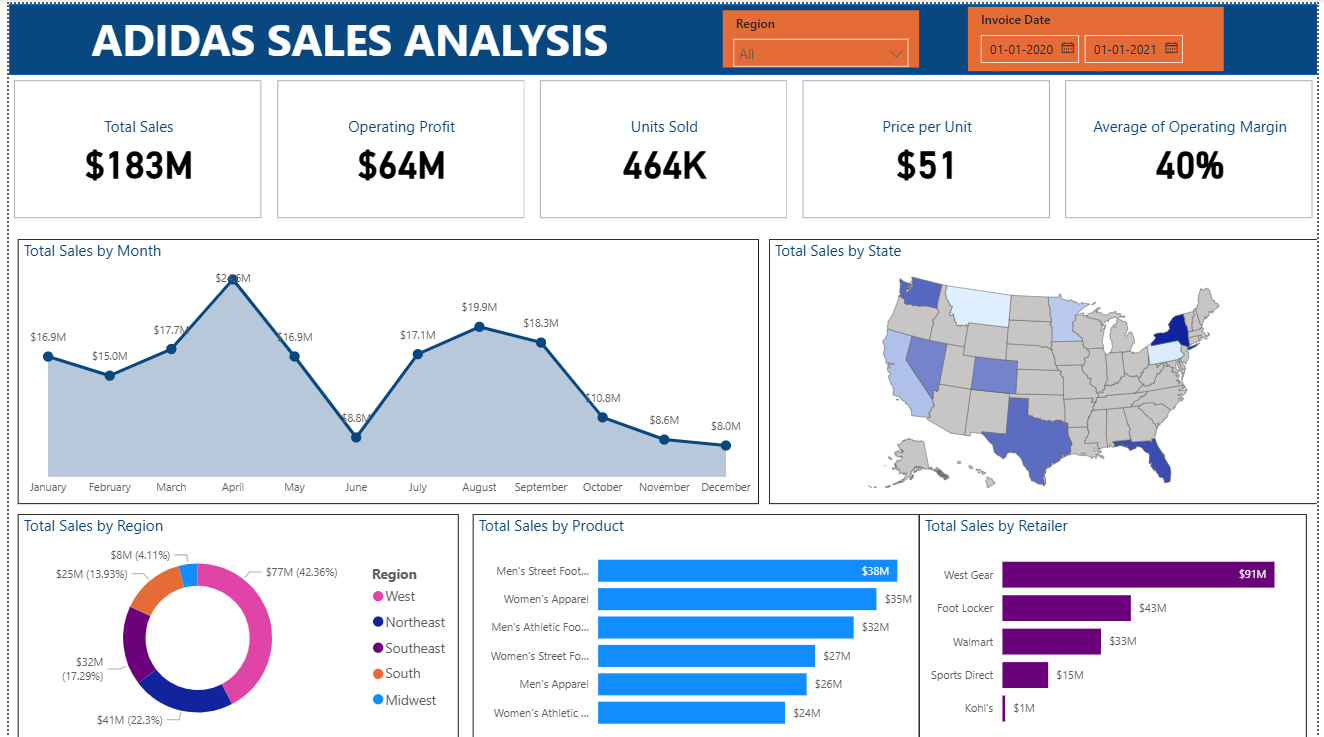

This screenshot's page, from the dashboard's own definition file:
{"tool":"powerbi","page":{"name":"Page 1","canvas":[1280,720],"ordinal":0},"visuals":[{"type":"shape","box":[0,0,1279.9,69.7],"z":0},{"type":"textbox","box":[75.8,0,647.9,72.1],"z":1000},{"type":"cardVisual","fields":{"Data":["Sum(Data Sales Adidas.Total Sales)","Sum(Data Sales Adidas.Operating Profit)","Sum(Data Sales Adidas.Units Sold)","Avg(Data Sales Adidas.Price per Unit)","Avg(Data Sales Adidas.Operating Margin)"]},"box":[0,70,1280,145],"z":2000},{"type":"areaChart","title":" Total Sales by Month","fields":{"Category":["Data Sales Adidas.Invoice Date.Variation.Date Hierarchy.Month"],"Y":["Sum(Data Sales Adidas.Total Sales)"]},"box":[8.8,230,725,259],"z":3000},{"type":"shapeMap","title":"Total Sales by State","fields":{"Category":["Data Sales Adidas.State"],"Value":["Sum(Data Sales Adidas.Total Sales)"]},"box":[743.2,229.8,536.6,259.2],"z":4000},{"type":"donutChart","title":"Total Sales by Region","fields":{"Category":["Data Sales Adidas.Region"],"Y":["Sum(Data Sales Adidas.Total Sales)"]},"box":[8.6,498.7,431.5,221.3],"z":5000},{"type":"barChart","title":" Total Sales by Product","fields":{"Category":["Data Sales Adidas.Product"],"Y":["Sum(Data Sales Adidas.Total Sales)"]},"box":[453.5,498.7,436.4,221.3],"z":6000},{"type":"barChart","title":" Total Sales by Retailer","fields":{"Category":["Data Sales Adidas.Retailer"],"Y":["Sum(Data Sales Adidas.Total Sales)"]},"box":[889.9,498.7,378.9,221.3],"z":7000},{"type":"slicer","fields":{"Values":["Data Sales Adidas.Region"]},"box":[698,6.1,191.9,56.2],"z":7001},{"type":"slicer","title":"Invoice Date","fields":{"Values":["Data Sales Adidas.Invoice Date"]},"box":[937.6,2.4,249.4,63.6],"z":7002}]}

Visuals, with their boxes in screenshot pixels (x1, y1, x2, y2), scaled from the page's 1280x720 canvas onto the 1324x737 screenshot:
shape: rect(0, 0, 1323, 71)
textbox: rect(78, 0, 749, 74)
cardVisual - Sum(Data Sales Adidas.Total Sales) x Sum(Data Sales Adidas.Operating Profit): rect(0, 72, 1323, 220)
" Total Sales by Month" areaChart: rect(9, 235, 759, 501)
"Total Sales by State" shapeMap: rect(769, 235, 1323, 501)
"Total Sales by Region" donutChart: rect(9, 510, 455, 736)
" Total Sales by Product" barChart: rect(469, 510, 920, 736)
" Total Sales by Retailer" barChart: rect(920, 510, 1312, 736)
slicer - Data Sales Adidas.Region: rect(722, 6, 920, 64)
"Invoice Date" slicer: rect(970, 2, 1228, 68)
